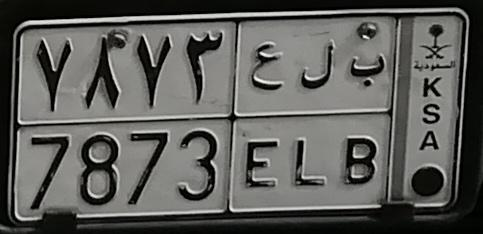3: (177, 30, 222, 202)
7: (29, 37, 75, 210), (128, 34, 171, 206)
8: (78, 35, 120, 205)
B: (343, 52, 384, 186)
E: (244, 41, 285, 188)
L: (294, 38, 336, 188)
